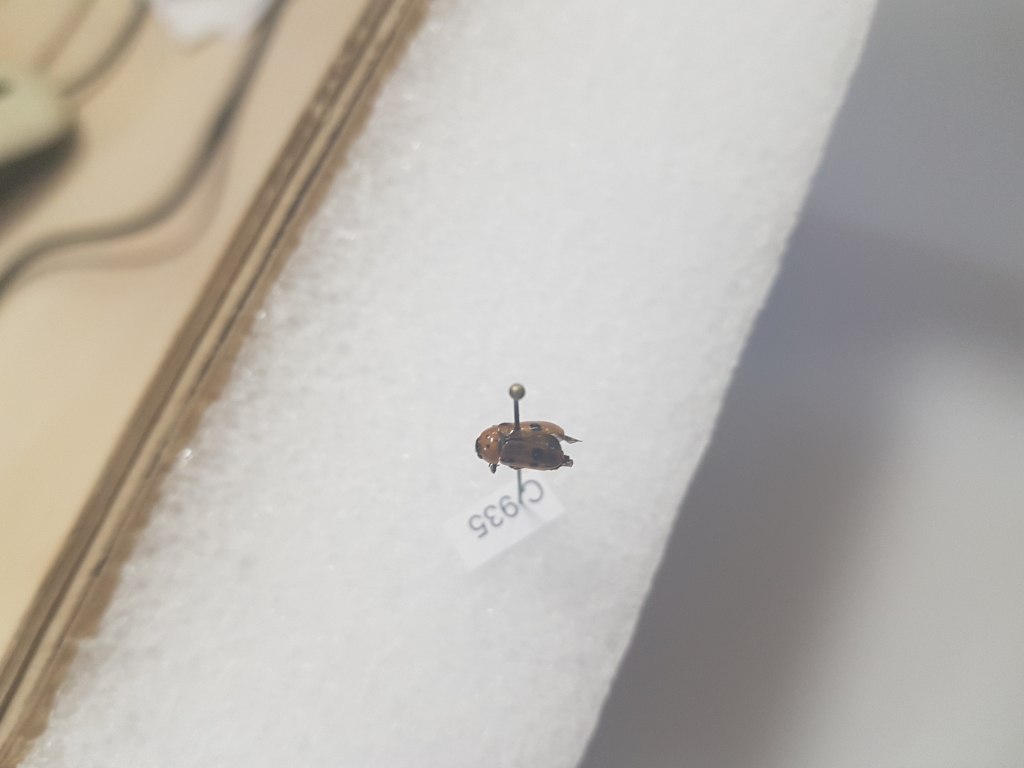Clytra_novempunctata: (470, 410, 579, 474)
